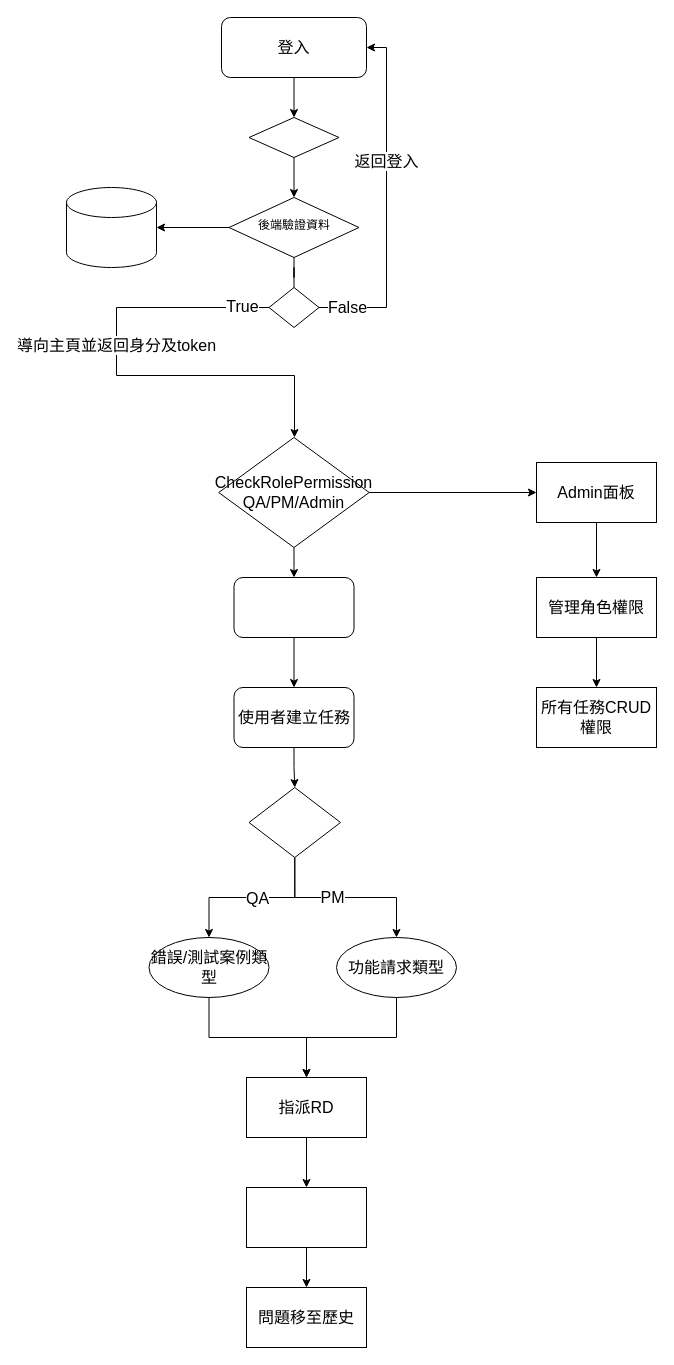
Image size: 674x1365. Some labels were removed from this diagram. Each missing label, with the box of its shape:
任務追蹤畫面: (233, 576, 354, 638)
任務類型: (248, 786, 340, 858)
問題解決: (246, 1186, 366, 1248)
資料庫: (66, 186, 156, 268)
輸入帳密: (248, 116, 339, 158)
